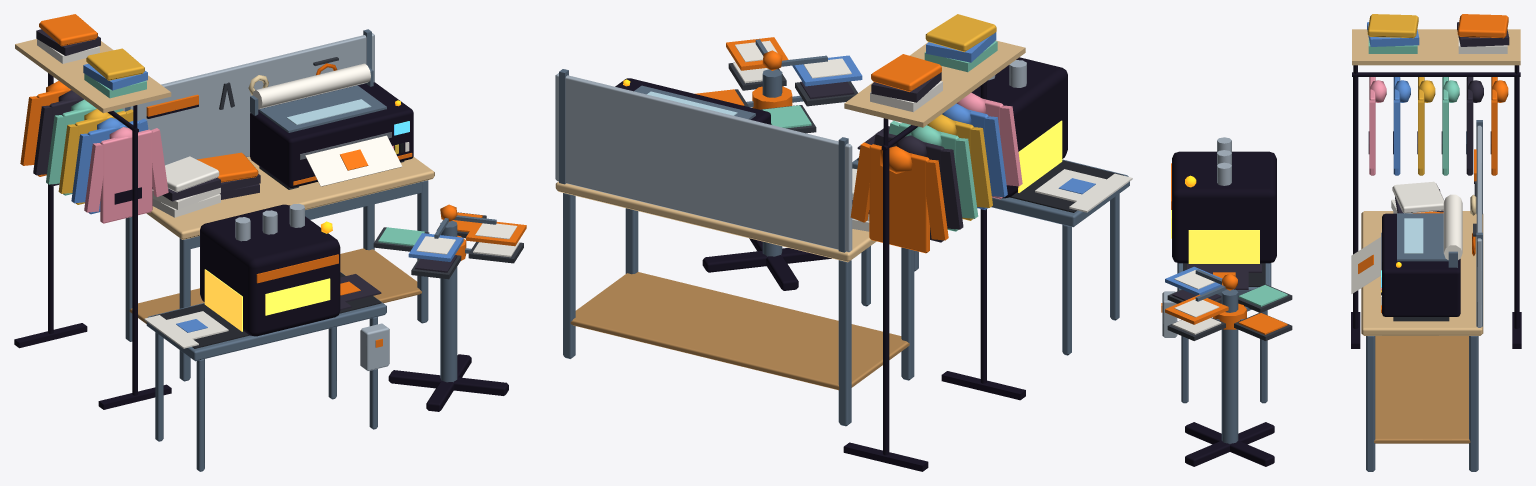
The model's file is station_buffer_3.glb.
The picture shows the model from 3 angles, left to right: view 1: azimuth 30°, elevation 25°; view 2: azimuth 150°, elevation 25°; view 3: azimuth 270°, elevation 25°; orthographic projection. The views are drawn at different scales.
Visible parts, largest first — view 1: station_buffer_3; view 2: station_buffer_3; view 3: station_buffer_3.
Part boxes in pixels (bbox=[...]): station_buffer_3: bbox=[14, 14, 526, 471]; station_buffer_3: bbox=[555, 14, 1132, 471]; station_buffer_3: bbox=[1161, 14, 1521, 471].
Bounding box in the file's own units: 2.05 × 1.83 × 1.92.
